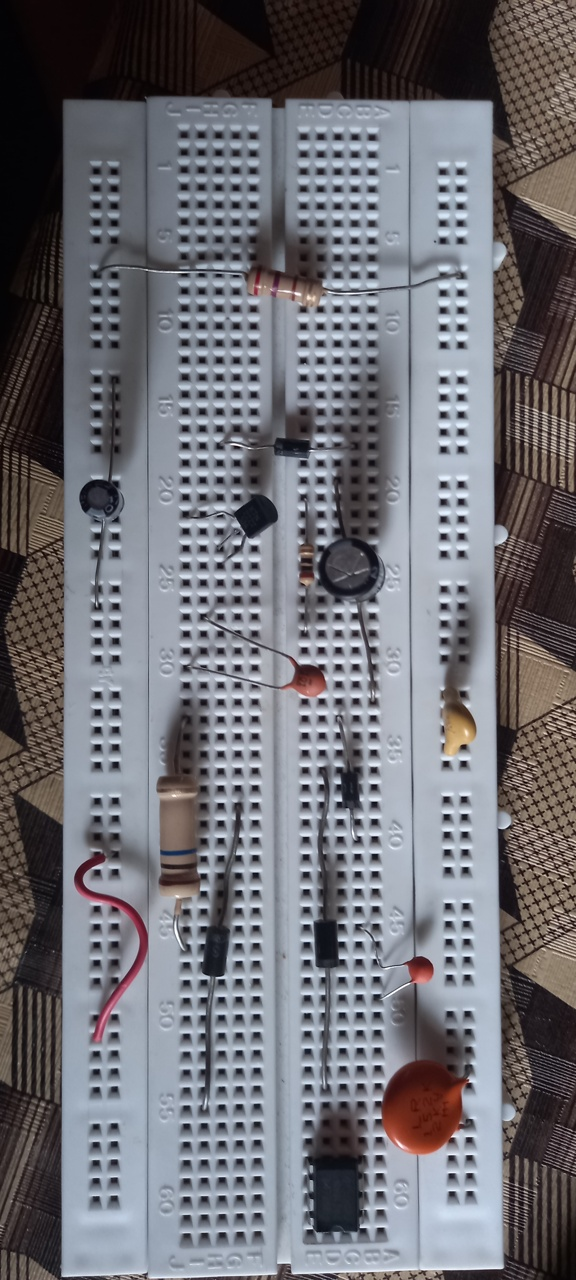capacitor: (381, 1060, 468, 1156), (318, 537, 386, 604), (441, 686, 477, 758), (78, 478, 127, 525), (283, 650, 328, 700), (405, 956, 435, 987)
resistor: (156, 775, 202, 900), (245, 264, 324, 312), (298, 542, 317, 589)
